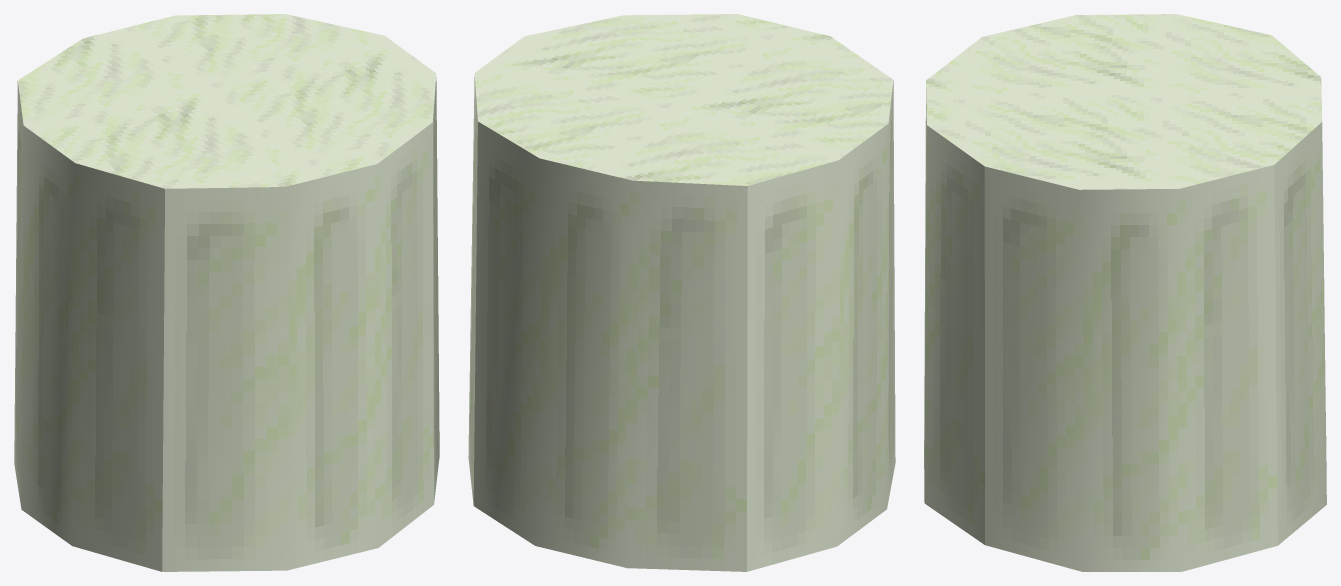
Rendered from marble01.obj.
3 views of the same model, side by side, from view 1: azimuth 30°, elevation 25°; view 2: azimuth 150°, elevation 25°; view 3: azimuth 270°, elevation 25° (orthographic).
Parts seen in each view (by area): view 1: Box01, Cylinder06, Duplicate02, Duplicate03; view 2: Duplicate01, Duplicate02, Cylinder06, Duplicate03; view 3: Duplicate03, Cylinder06, Box01, Duplicate01.
Part boxes in pixels (x1=…): Box01: x1=162, y1=122, x2=433, y2=571; Cylinder06: x1=18, y1=14, x2=436, y2=188; Duplicate02: x1=14, y1=81, x2=164, y2=571; Duplicate03: x1=433, y1=77, x2=439, y2=503; Duplicate01: x1=473, y1=121, x2=747, y2=571; Duplicate02: x1=746, y1=80, x2=895, y2=571; Cylinder06: x1=474, y1=14, x2=893, y2=185; Duplicate03: x1=468, y1=77, x2=477, y2=504; Duplicate03: x1=984, y1=165, x2=1277, y2=571; Cylinder06: x1=926, y1=14, x2=1322, y2=189; Box01: x1=924, y1=87, x2=984, y2=544; Duplicate01: x1=1274, y1=122, x2=1326, y2=545.
Size of the model in its own units: 23.01 by 23.33 by 22.05.
